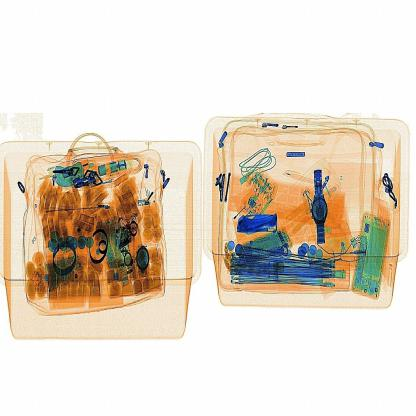knife: (235, 209, 282, 238)
